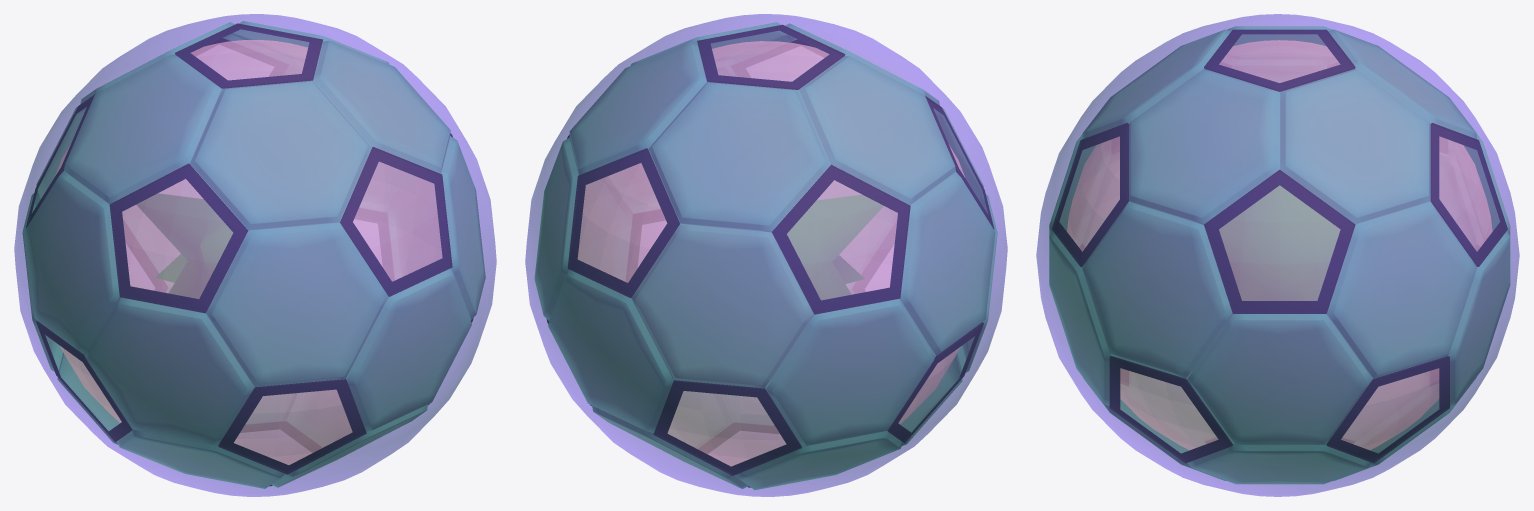
Rendered from Ball.fbx.
The picture shows the model from 3 angles, left to right: view 1: azimuth 30°, elevation 25°; view 2: azimuth 150°, elevation 25°; view 3: azimuth 270°, elevation 25°; orthographic projection.
Parts seen in each view (by area): view 1: Shell, Ball, Inner shell, Core; view 2: Shell, Ball, Inner shell, Core; view 3: Shell, Ball, Inner shell, Core.
Part boxes in pixels (bbox=[...]): Shell: bbox=[14, 14, 496, 496]; Ball: bbox=[22, 21, 485, 488]; Inner shell: bbox=[55, 40, 442, 464]; Core: bbox=[137, 193, 232, 298]; Shell: bbox=[525, 14, 1007, 496]; Ball: bbox=[534, 22, 997, 489]; Inner shell: bbox=[578, 41, 964, 466]; Core: bbox=[787, 195, 883, 299]; Shell: bbox=[1036, 14, 1519, 496]; Ball: bbox=[1049, 26, 1510, 484]; Inner shell: bbox=[1067, 40, 1492, 449]; Core: bbox=[1219, 185, 1340, 300].
Bounding box in the file's own units: 72.75 × 72.75 × 72.75.
Materials: 4 (1 with a texture image).
